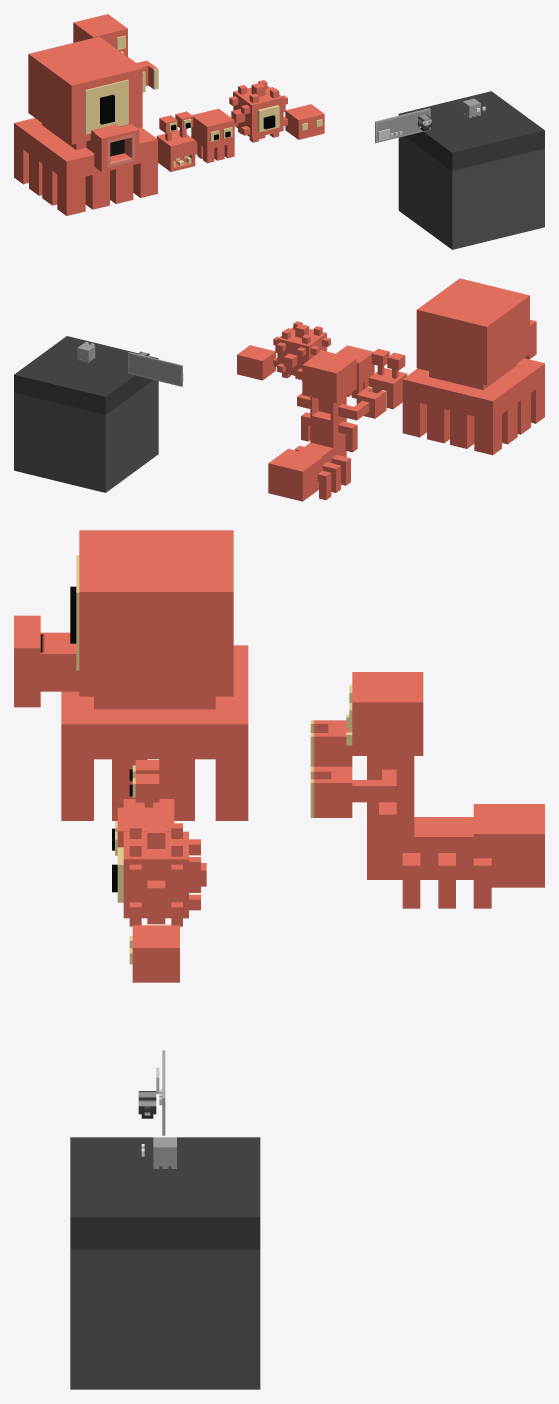
Rendered from EvilIdle.dae.
3 views of the same model, one above another, from view 1: azimuth 30°, elevation 25°; view 2: azimuth 150°, elevation 25°; view 3: azimuth 270°, elevation 25° (orthographic). The views are drawn at different scales.
Parts seen in each view (by area): view 1: World, Box, _2, _4, object 9, _1, Merged_Compound, Box_7, Box_1, Box_8, Monster; view 2: Box, World, Merged_Compound, _2, _1, Box_1, Box_7, object 9, Monster; view 3: World, Box, Merged_Compound, _2, _4, Box_7, _1, object 9.
Boxes of the visible parts, x1,y1,x2,y2 form: World: (398,91,544,249); Box: (14,36,157,215); _2: (229,80,287,142); _4: (86,124,139,171); object 9: (191,108,234,163); _1: (156,111,195,171); Merged_Compound: (73,14,158,92); Box_7: (285,104,324,139); Box_1: (375,108,430,143); Box_8: (100,94,114,124); Monster: (462,98,480,118); Box: (402,278,544,455); World: (14,336,158,492); Merged_Compound: (268,350,386,501); _2: (273,321,330,381); _1: (369,348,407,409); Box_1: (128,352,182,386); Box_7: (237,345,275,380); object 9: (336,345,374,398); Monster: (77,343,95,362); World: (70,1137,260,1389); Box: (61,530,248,820); Merged_Compound: (310,672,544,908); _2: (117,823,206,926); _4: (14,615,79,707); Box_7: (129,925,179,982); _1: (123,760,174,807); object 9: (115,807,174,855).
Size of the model in its own units: 332 by 168 by 179.
Materials: 1 (1 with a texture image).
